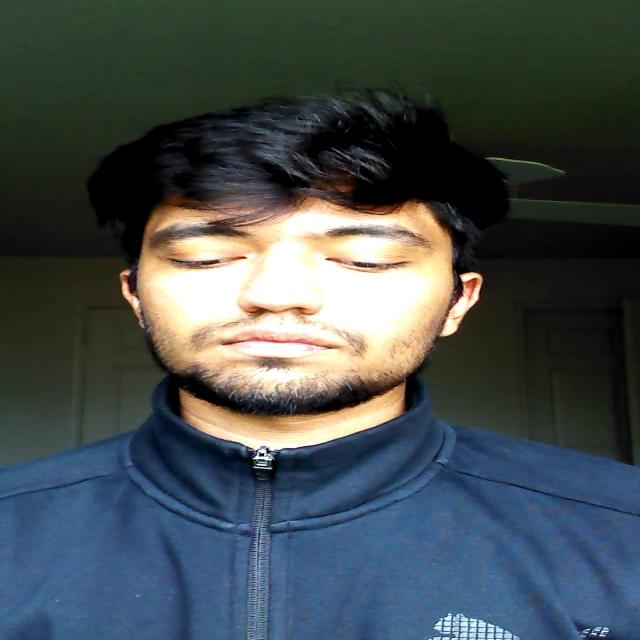Eyeclosed: (166, 250, 246, 273), (330, 253, 409, 273)
